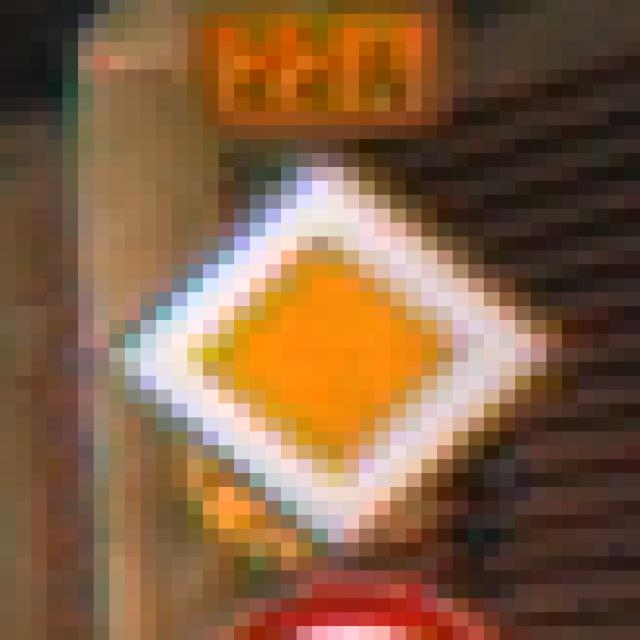Main Road: (79, 85, 563, 572)
